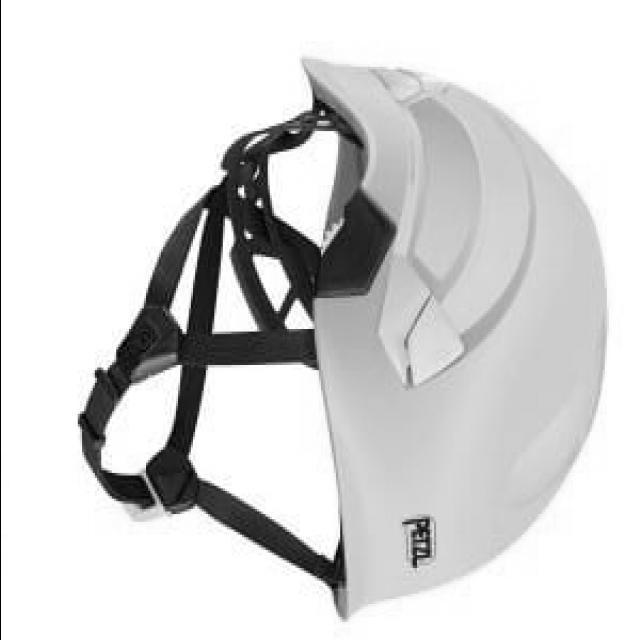safety_helmet: (213, 57, 606, 619)
